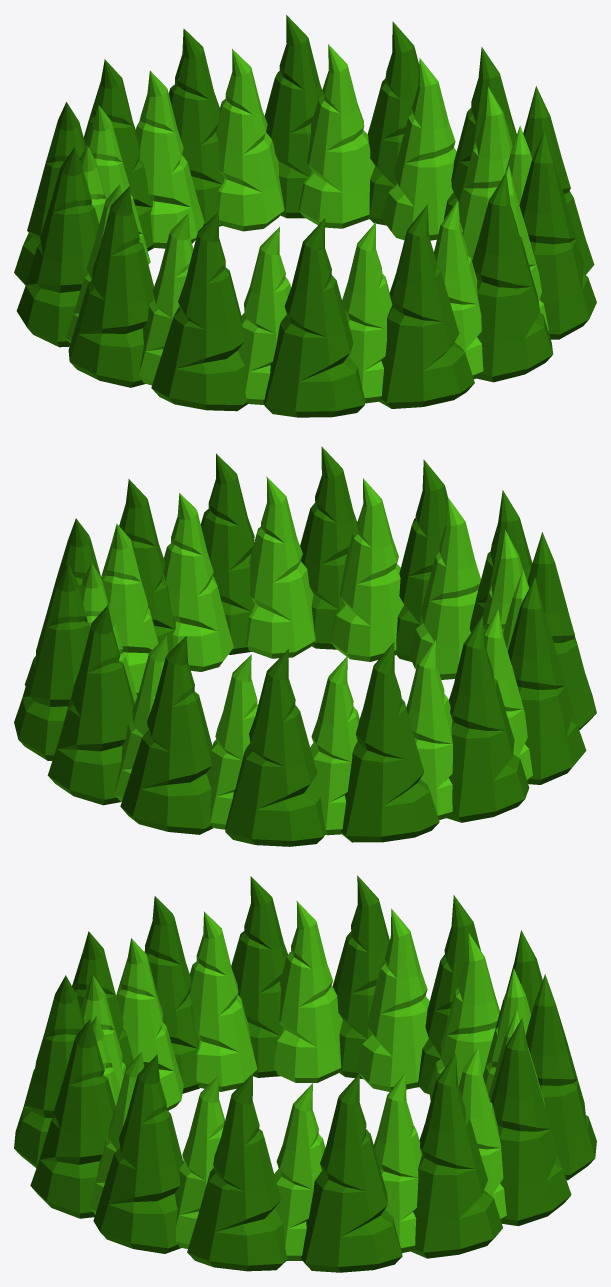
The model's file is Forest.fbx.
3 renders of one model, top to bottom at view 1: azimuth 30°, elevation 25°; view 2: azimuth 150°, elevation 25°; view 3: azimuth 270°, elevation 25°, orthographic.
Parts seen in each view (by area): view 1: 2, 1; view 2: 2, 1; view 3: 2, 1.
Boxes of the visible parts, x1,y1,x2,y2 form: 2: (14, 15, 596, 417); 1: (65, 44, 548, 404); 2: (14, 446, 596, 846); 1: (80, 477, 532, 835); 2: (14, 875, 596, 1272); 1: (81, 901, 545, 1260).
Bounding box in the file's own units: 799 × 280 × 804.
